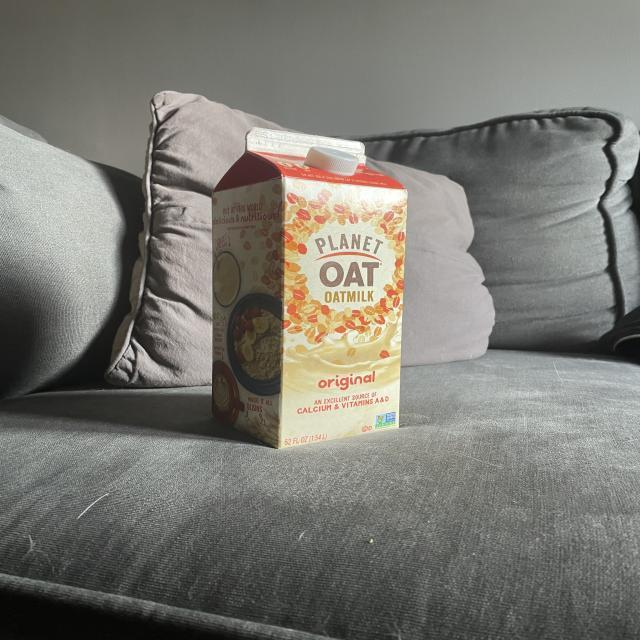Planet Oat Original: (202, 125, 415, 454)
